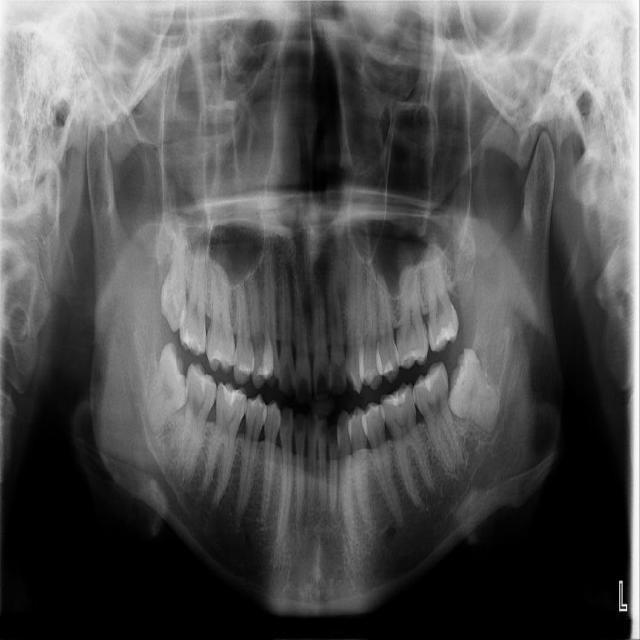3M ESPE Implant: (159, 231, 189, 333)
52: (194, 364, 217, 394), (431, 322, 458, 345), (384, 388, 409, 411), (417, 369, 438, 392), (218, 385, 238, 405), (384, 359, 395, 374), (183, 328, 189, 346), (259, 401, 264, 407), (251, 401, 255, 407)
73: (571, 596, 576, 602)
BioHorizons Implant: (421, 243, 460, 352)
Biomet 3i Implant: (427, 343, 513, 445)
Blue Sky Bio Implant: (406, 360, 466, 478)
Caries: (178, 242, 207, 356)
Implant: (173, 360, 221, 486)
Keystone Dental Implant: (137, 341, 202, 443)
